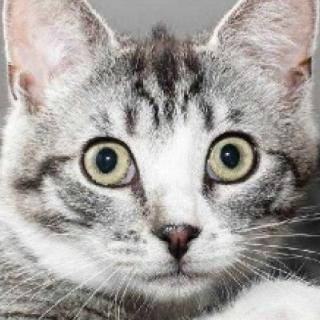cat: (3, 0, 320, 300)
nose: (131, 180, 220, 271)
